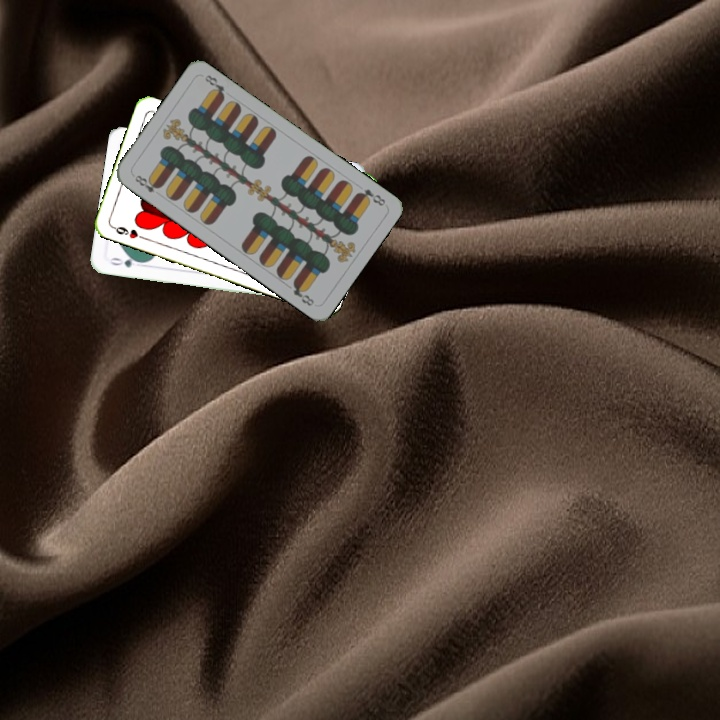E8: (352, 184, 388, 209), (131, 171, 164, 195)
GO: (106, 253, 145, 270)
H9: (108, 222, 148, 242)
